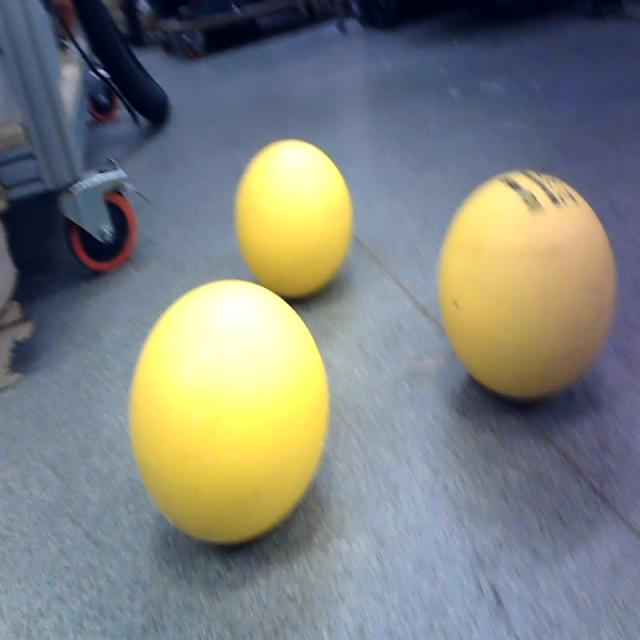Fuel: (130, 280, 328, 543), (440, 172, 614, 397), (239, 140, 351, 296)
